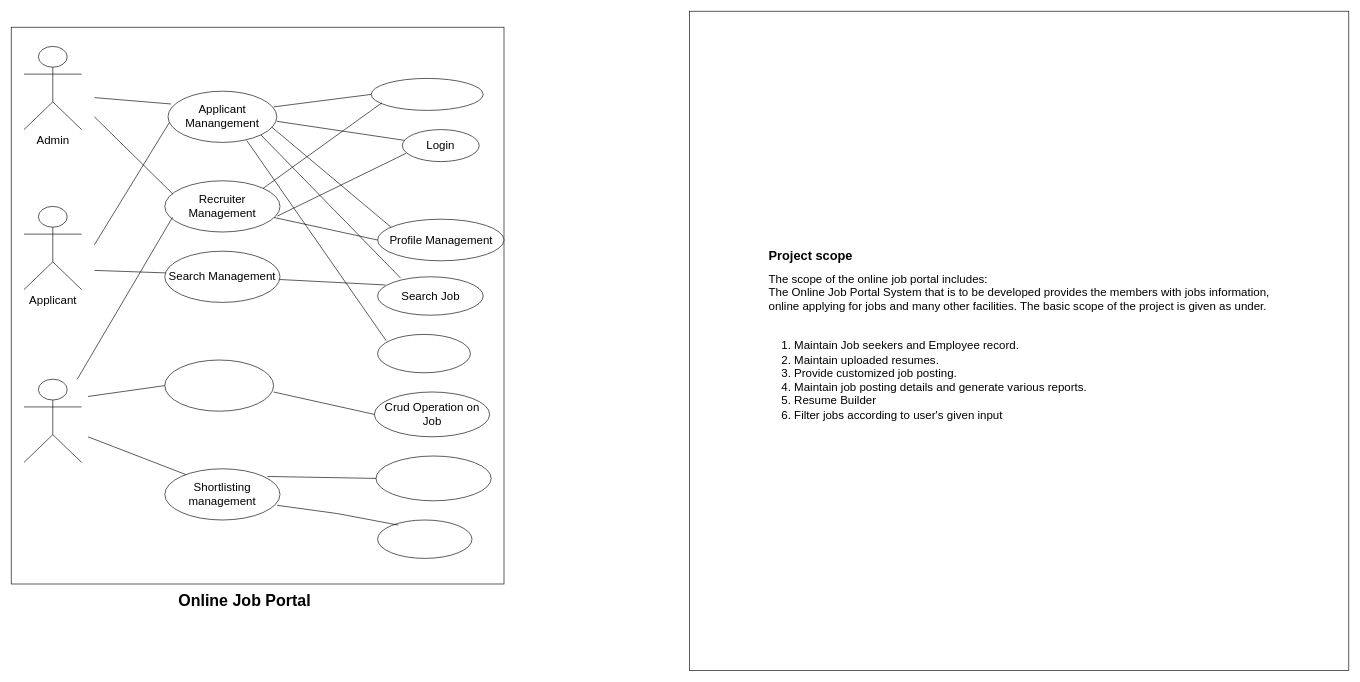
Image size: 1360x682. Some labels were removed from this diagram. The centre of each missing label's shape, as x and y in pixels:
Filter Job: point (423, 353)
Job Management: point (219, 385)
Recruiter: point (52, 420)
Register: point (427, 94)
Requirement Searching: point (433, 478)
Shortlisting: point (424, 538)
